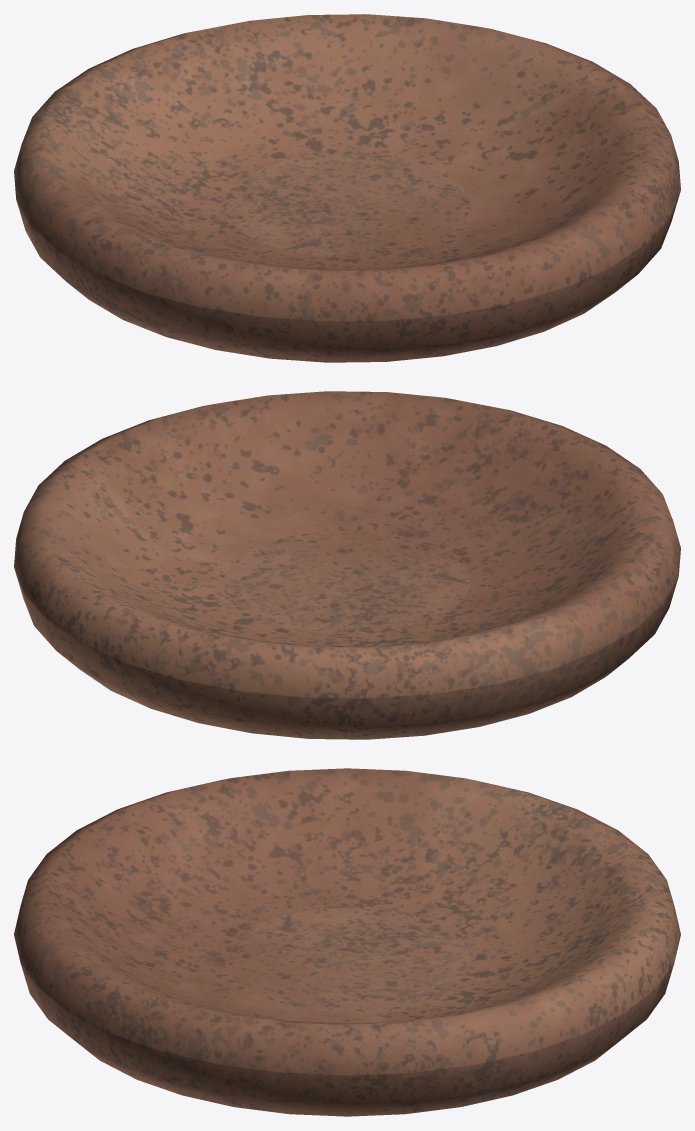
Rendered from platito seremonial.fbx.
The picture shows the model from 3 angles, top to bottom: view 1: azimuth 30°, elevation 25°; view 2: azimuth 150°, elevation 25°; view 3: azimuth 270°, elevation 25°; orthographic projection.
Visible parts, largest first — view 1: Cylinder; view 2: Cylinder; view 3: Cylinder.
Boxes of the visible parts, x1,y1,x2,y2 form: Cylinder: (14,14,680,362); Cylinder: (14,391,680,739); Cylinder: (14,768,680,1116).
Bounding box in the file's own units: 105 × 17.74 × 105.
Materials: 1 (1 with a texture image).
